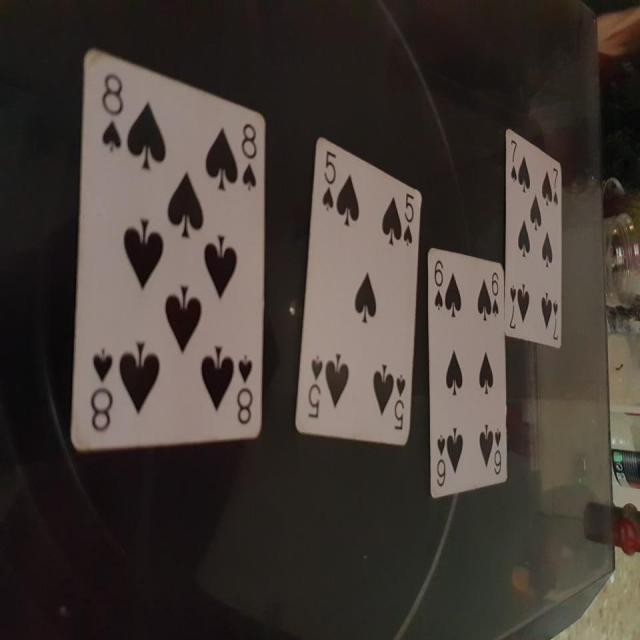5 Spades: (293, 120, 427, 457)
6 Spades: (422, 248, 514, 503)
7 Spades: (501, 118, 569, 356)
8 Spades: (68, 36, 270, 464)
